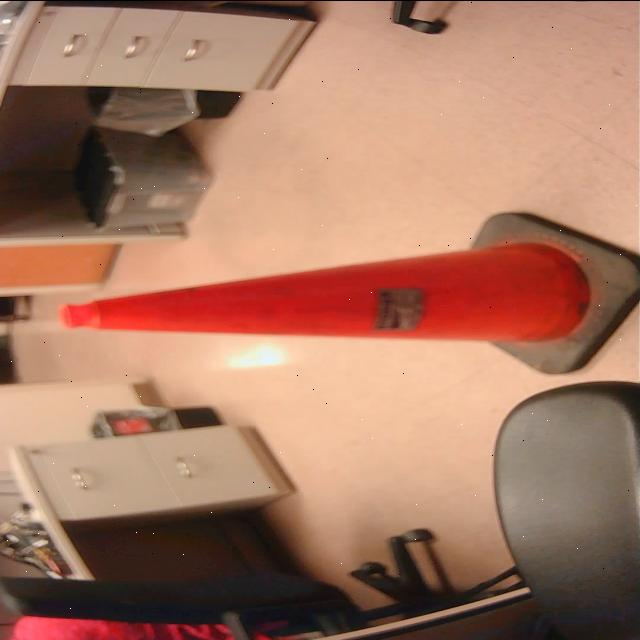traffic cone: (47, 204, 640, 380)
